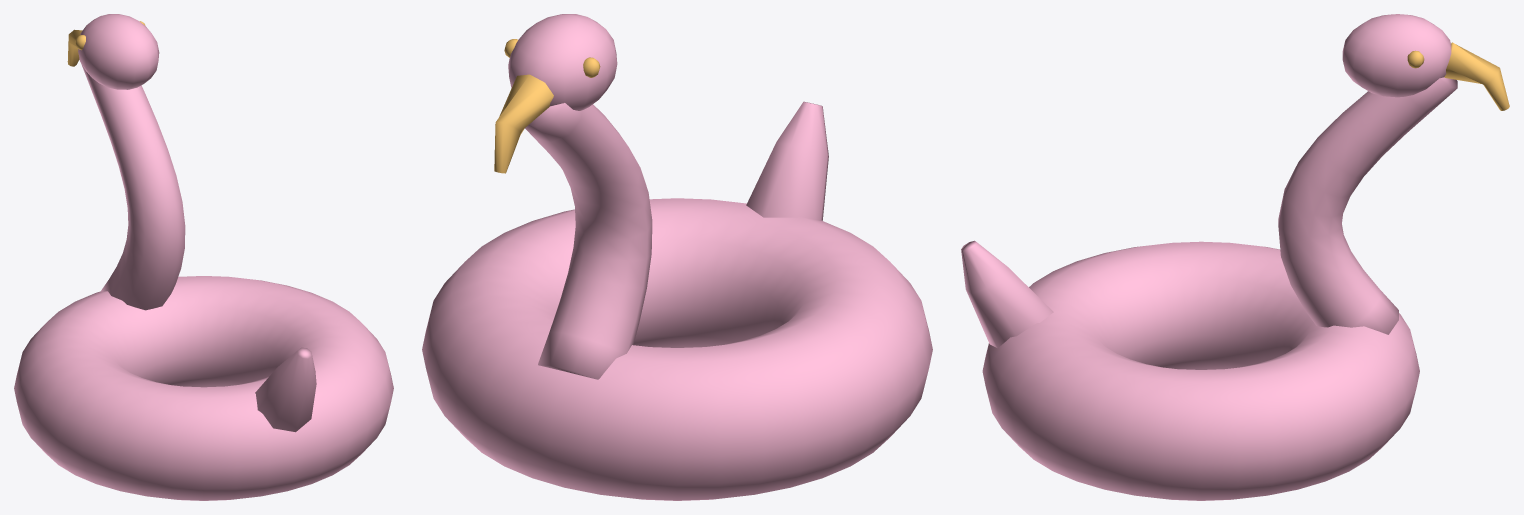
File: BumperFlamingo.glb
3 renders of one model, left to right at view 1: azimuth 30°, elevation 25°; view 2: azimuth 150°, elevation 25°; view 3: azimuth 270°, elevation 25°, orthographic. The views are drawn at different scales.
Parts seen in each view (by area): view 1: Pink, Beak; view 2: Pink, Beak; view 3: Pink, Beak.
Boxes of the visible parts, x1,y1,x2,y2 form: Pink: (14,14,393,500); Beak: (67,21,145,66); Pink: (422,14,932,500); Beak: (494,39,600,173); Pink: (961,14,1457,500); Beak: (1407,42,1509,110).
Size of the model in its own units: 4.9 by 5.1 by 6.15.
